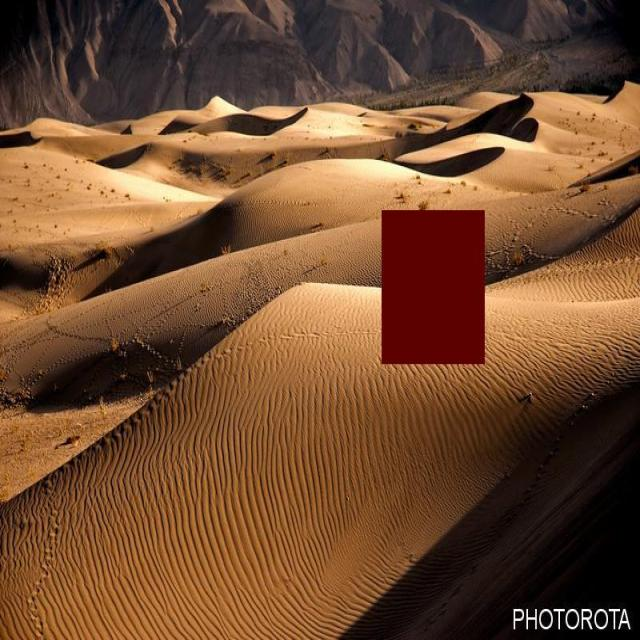RedSquare: (378, 202, 489, 376)
